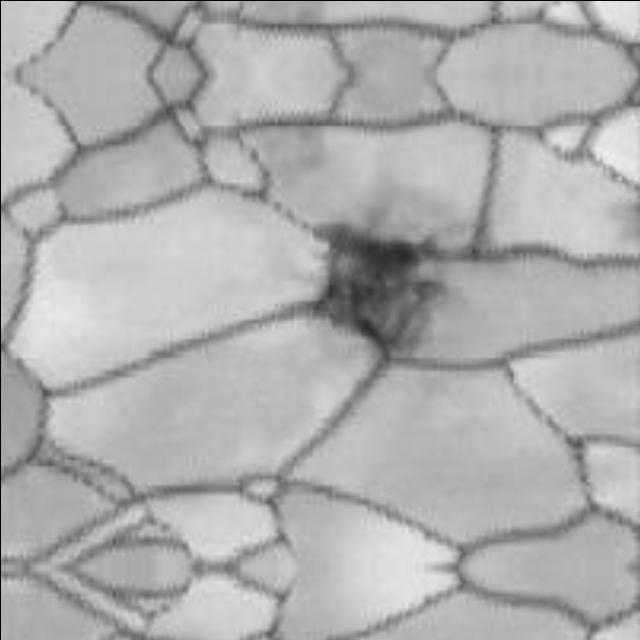good_void: (294, 216, 440, 361)
